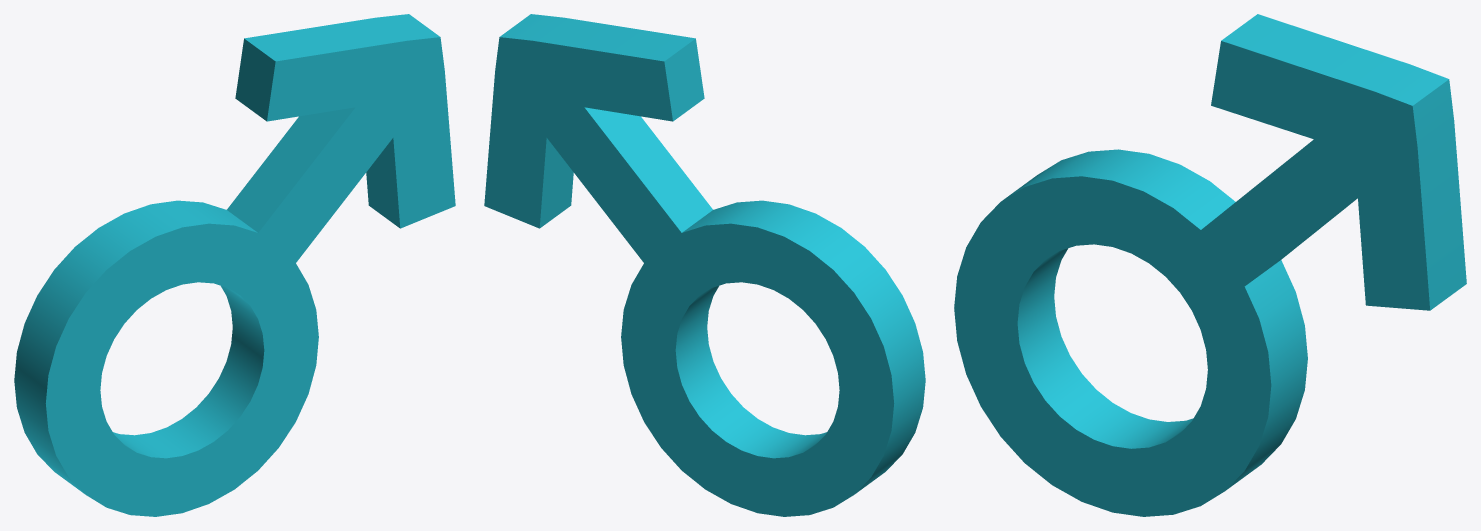
Rendered from male_sign.glb.
The picture shows the model from 3 angles, left to right: view 1: azimuth 30°, elevation 25°; view 2: azimuth 150°, elevation 25°; view 3: azimuth 330°, elevation 25°; orthographic projection. The views are drawn at different scales.
Visible parts, largest first — view 1: Circle.2635; view 2: Circle.2635; view 3: Circle.2635.
Boxes of the visible parts, box(x1,y1,x2,y2) form: Circle.2635: box(14, 14, 455, 516); Circle.2635: box(484, 14, 925, 516); Circle.2635: box(954, 14, 1466, 516).
Bounding box in the file's own units: 1.8 × 1.8 × 0.24.
Materials: 1 (1 with a texture image).
